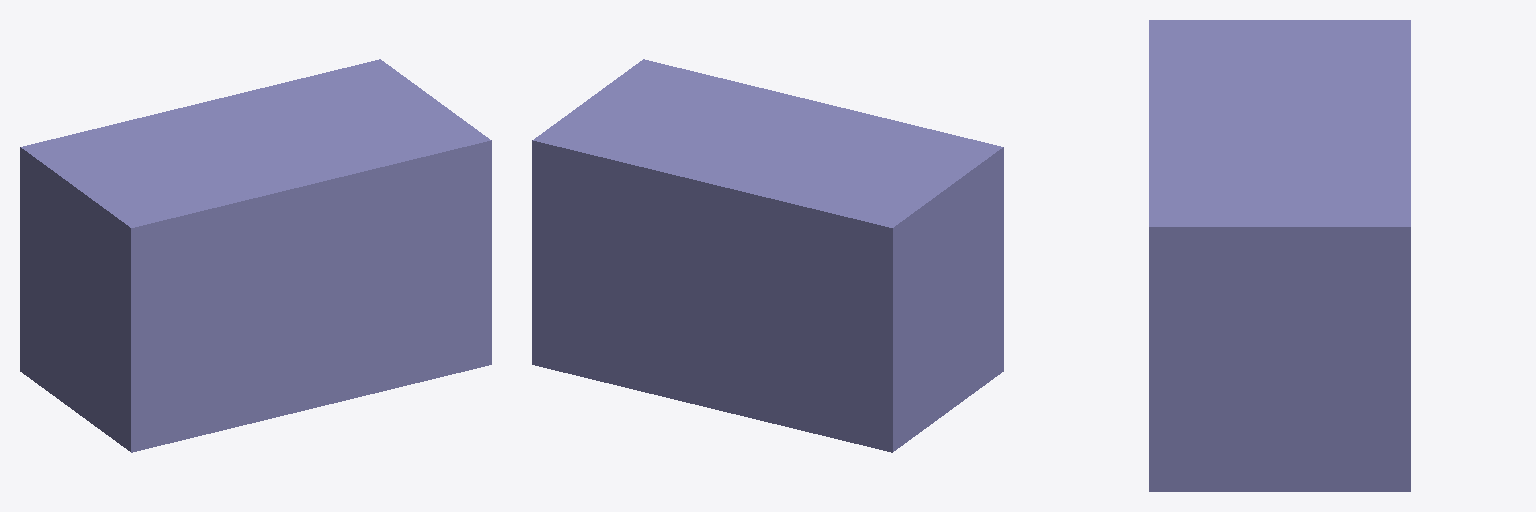
The robot description file, URDF, robot "box.urdf":
<?xml version="1.0" ?>
<robot name="box.urdf">
  <link name="baseLink">
    <contact>
      <lateral_friction value="1.0"/>
      <rolling_friction value="0.0001"/>
      <inertia_scaling value="3.0"/>
    </contact>
    <inertial>
      <origin rpy="0 0 0" xyz="0 0 0"/>
       <mass value="0.1"/>
       <inertia ixx="1" ixy="0" ixz="0" iyy="1" iyz="0" izz="1"/>
    </inertial>
    <visual>
      <origin rpy="0 0 0" xyz="0 0 0"/>
      <geometry>
        <!-- <box size="0.386 0.20600000000000002 0.23"/> -->
        <mesh filename="box/box.obj" scale="0.386 0.20600000000000002 0.23"/>
      </geometry>
      <material name="white">
        <color rgba="0.6 0.6 0.8 1"/>
      </material>
    </visual>
    <collision>
      <origin rpy="0 0 0" xyz="0 0 0"/>
      <geometry>
        <mesh filename="box/box.obj" scale="0.386 0.20600000000000002 0.23"/>
	 	    <!-- <box size="0.386 0.20600000000000002 0.23"/> -->
      </geometry>
    </collision>
  </link>
</robot>

--- What the picture shows (computed from the rendered views, not written in the file) ---
The picture shows the robot from 3 angles, left to right: view 1: azimuth 30°, elevation 25°; view 2: azimuth 150°, elevation 25°; view 3: azimuth 270°, elevation 25°; orthographic projection.
Model box.urdf with 1 links and 0 joints (none), rooted at baseLink, posed all joints at 0.
Links seen in each view (by area): view 1: baseLink; view 2: baseLink; view 3: baseLink.
Link boxes in pixels (x1=…): baseLink: x1=20, y1=59, x2=491, y2=452; baseLink: x1=532, y1=59, x2=1003, y2=452; baseLink: x1=1149, y1=20, x2=1410, y2=491.
Size in the robot's own frame: 0.386 by 0.206 by 0.23 metres.
Meshes: 1 distinct files referenced, 1 mesh visuals loaded (1 OBJ).
